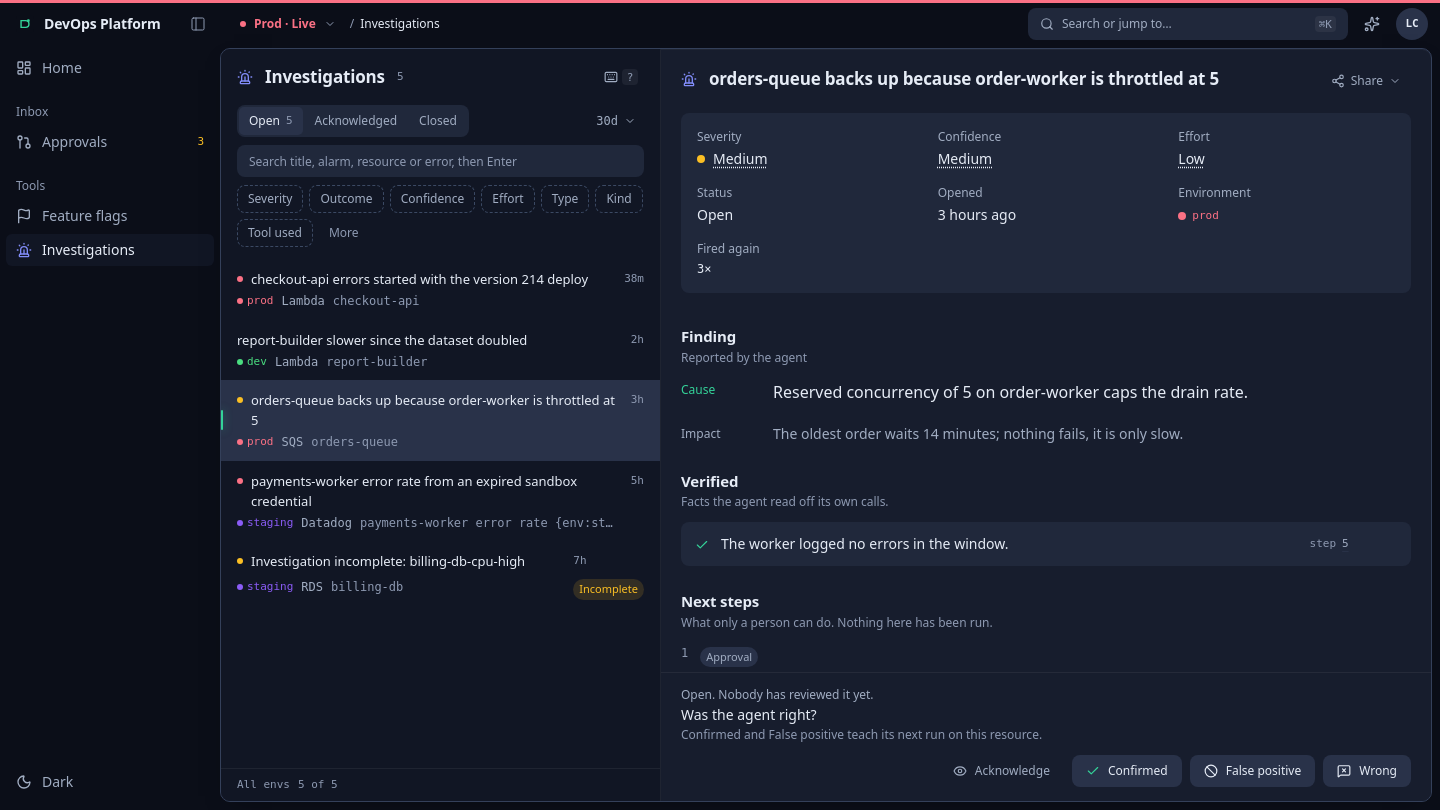
Test: one investigation › closes a reported cause as confirmed at one press
Click the button "Confirmed".
click(1127, 771)  # box left=1072, top=755, right=1182, bottom=787
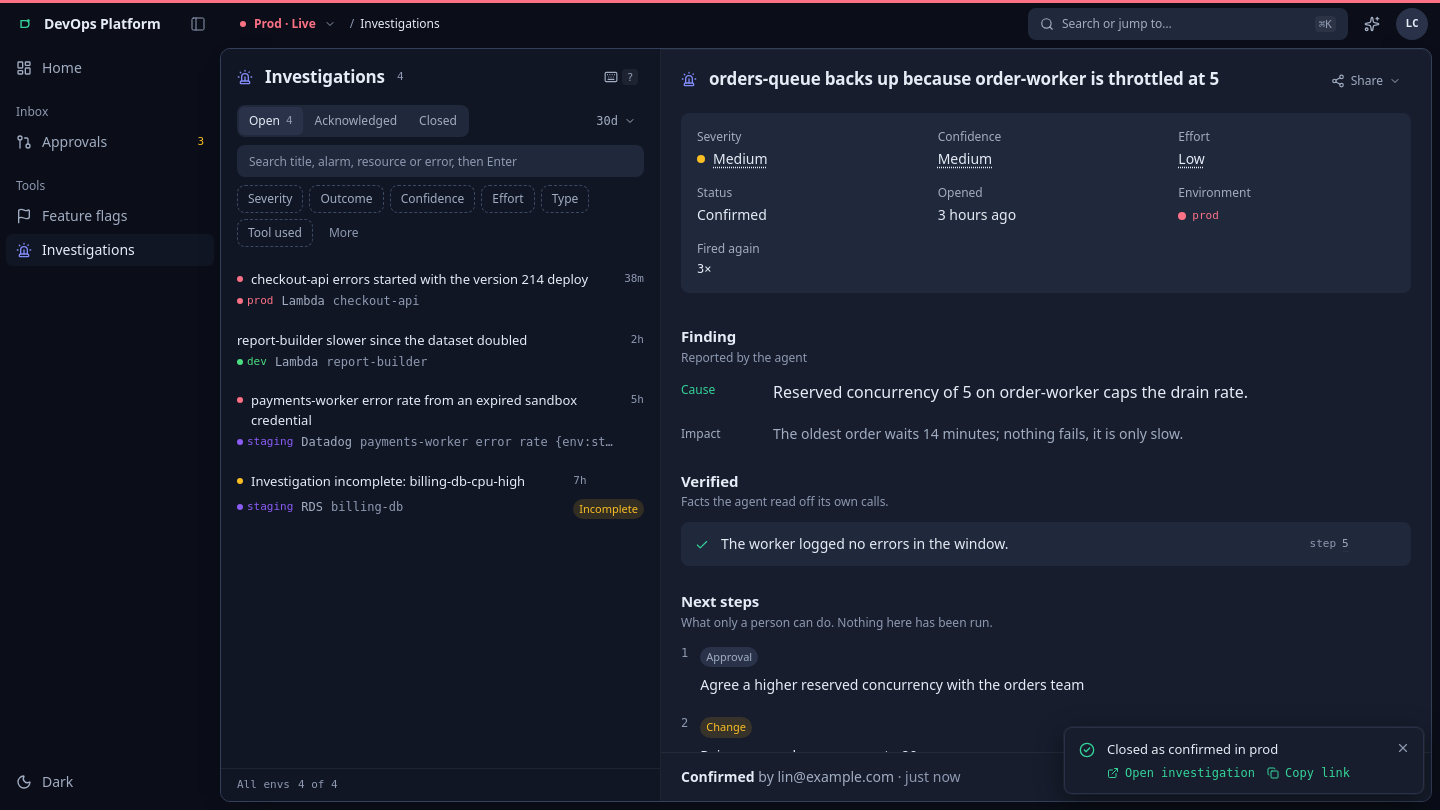
Result: the element named "Decision" shows "Confirmed by lin@example.com" at left=661, top=752, right=1431, bottom=801
